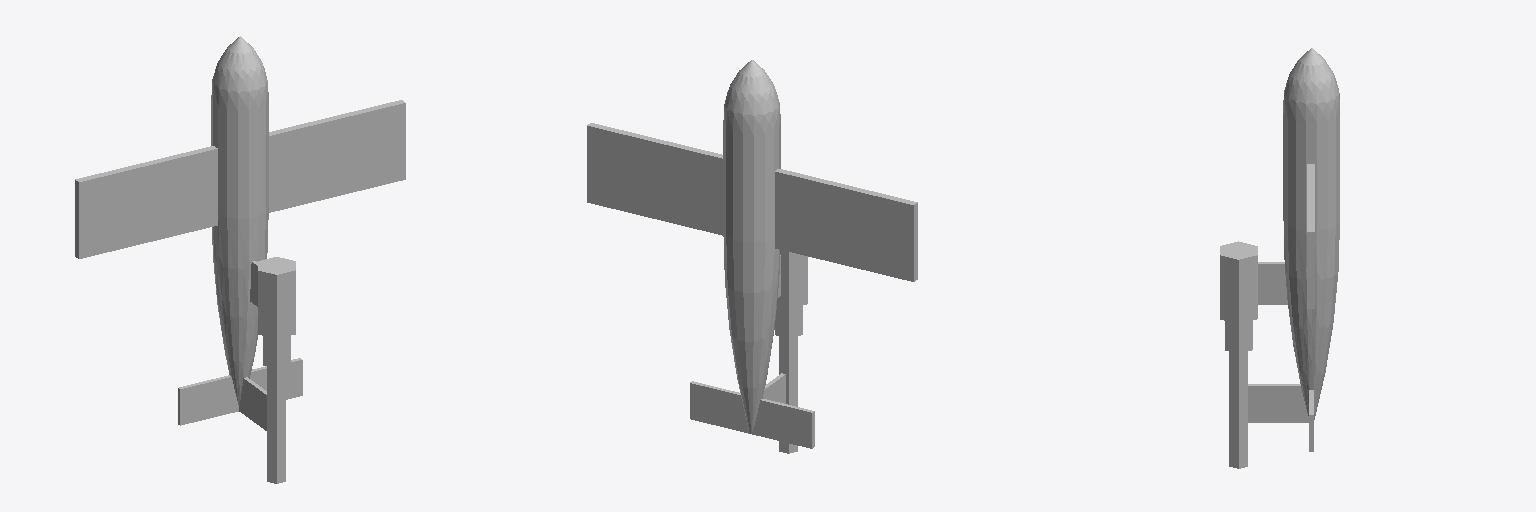
Rendered from main.obj.
3 views of the same model, side by side, from view 1: azimuth 30°, elevation 25°; view 2: azimuth 150°, elevation 25°; view 3: azimuth 270°, elevation 25° (orthographic).
Visible parts, largest first — view 1: Body1; view 2: Body1; view 3: Body1.
Boxes of the visible parts, x1,y1,x2,y2 form: Body1: [75, 36, 405, 483]; Body1: [587, 60, 917, 453]; Body1: [1220, 48, 1339, 468].
Bounding box in the file's own units: 160 × 195 × 51.03.